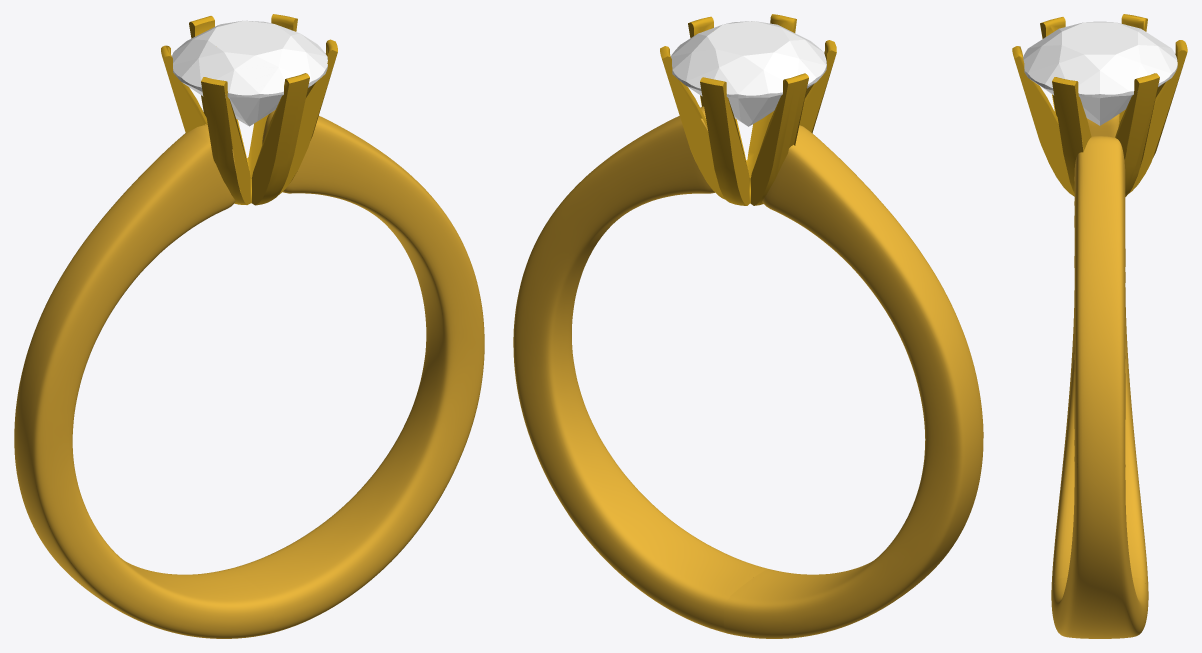
File: ringfinal.glb
3 renders of one model, left to right at view 1: azimuth 30°, elevation 25°; view 2: azimuth 150°, elevation 25°; view 3: azimuth 270°, elevation 25°, orthographic.
Visible parts, largest first — view 1: Oggetto_17_6, Oggetto_18_5, corona_7, Round_21; view 2: Oggetto_17_6, Oggetto_18_5, corona_7, Round_21; view 3: Oggetto_18_5, corona_7, Round_21, Oggetto_17_6.
Boxes of the visible parts, bbox=[...] form: Oggetto_17_6: bbox=[14, 124, 273, 638]; Oggetto_18_5: bbox=[230, 110, 484, 633]; corona_7: bbox=[161, 14, 337, 205]; Round_21: bbox=[172, 20, 327, 126]; Oggetto_17_6: bbox=[724, 125, 983, 638]; Oggetto_18_5: bbox=[513, 106, 767, 633]; corona_7: bbox=[660, 14, 836, 205]; Round_21: bbox=[670, 21, 826, 126]; Oggetto_18_5: bbox=[1051, 136, 1148, 638]; corona_7: bbox=[1012, 14, 1187, 196]; Round_21: bbox=[1023, 21, 1177, 125]; Oggetto_17_6: bbox=[1051, 114, 1148, 592].
Size of the model in its own units: 2.47 by 3.03 by 0.8338.
